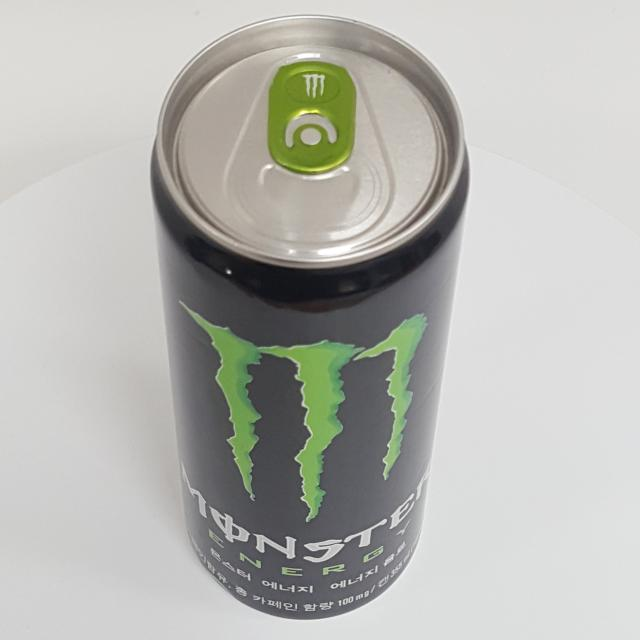--------355ML: (150, 14, 469, 620)
